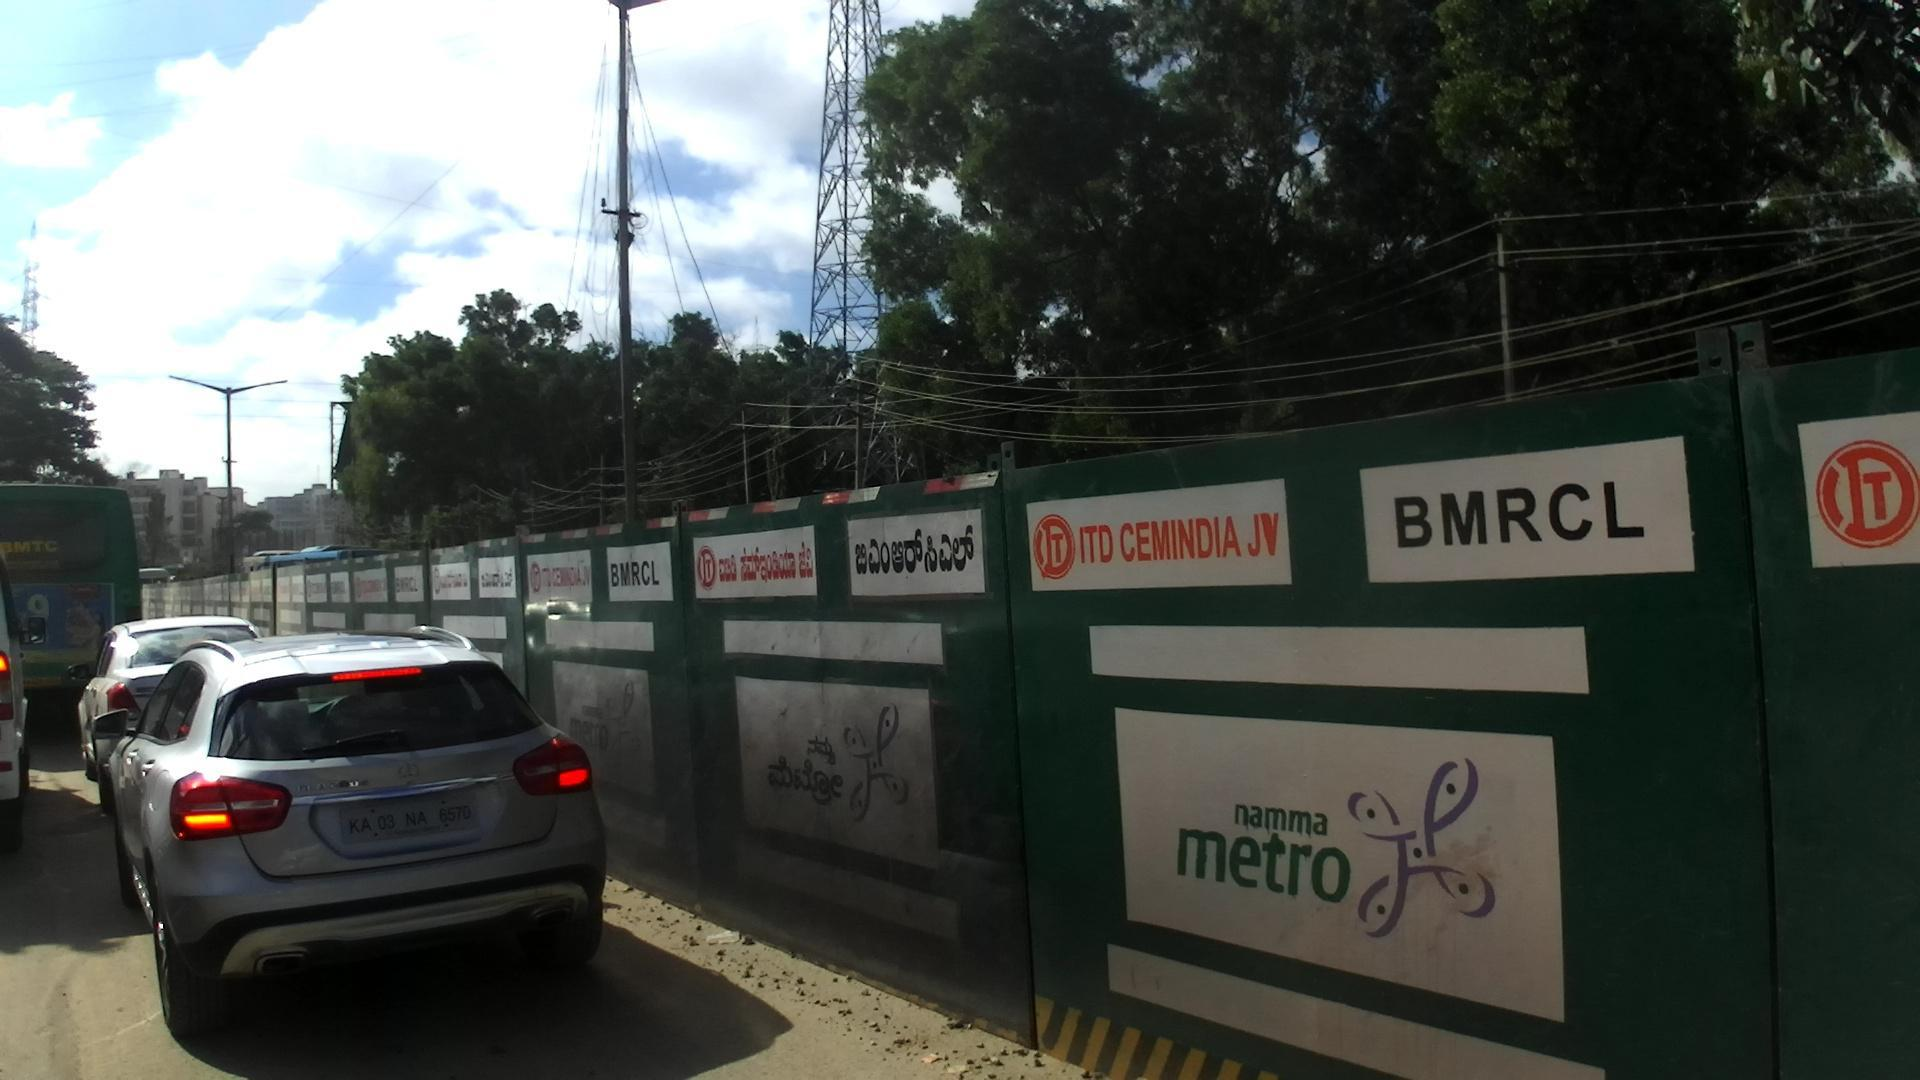off: (0, 0, 1887, 868)
